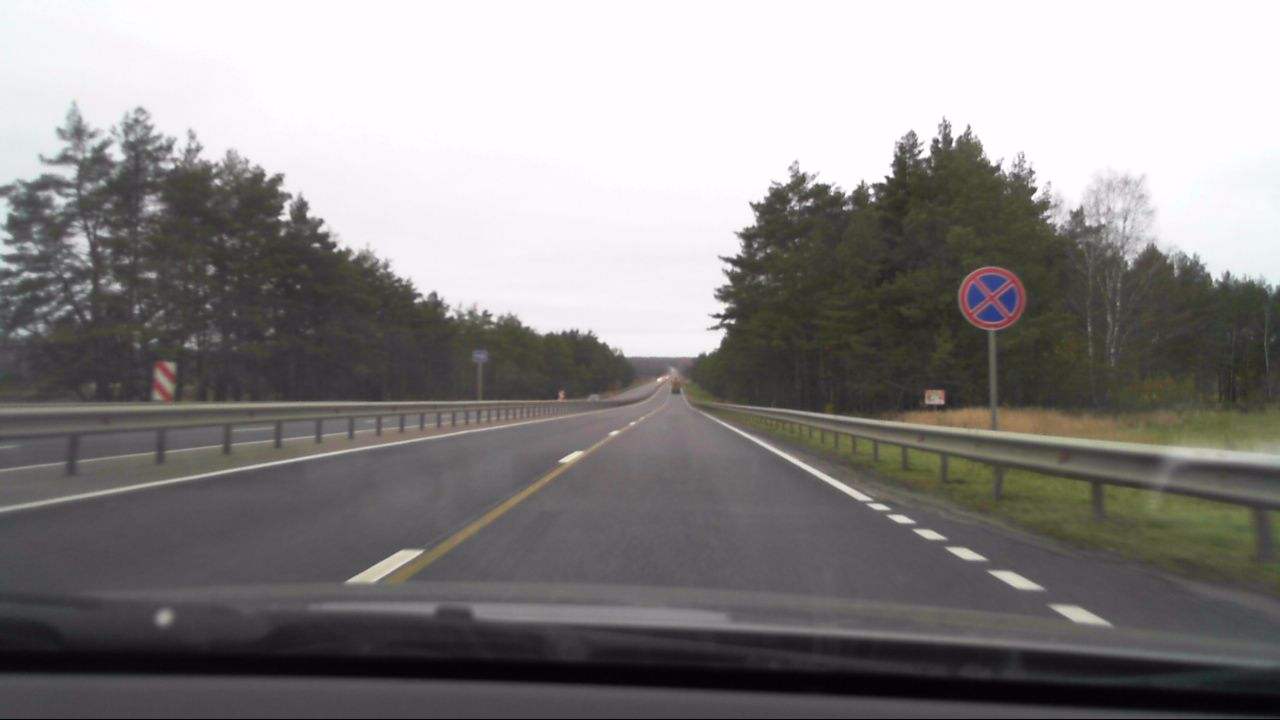No Parking: (956, 264, 1028, 334)
